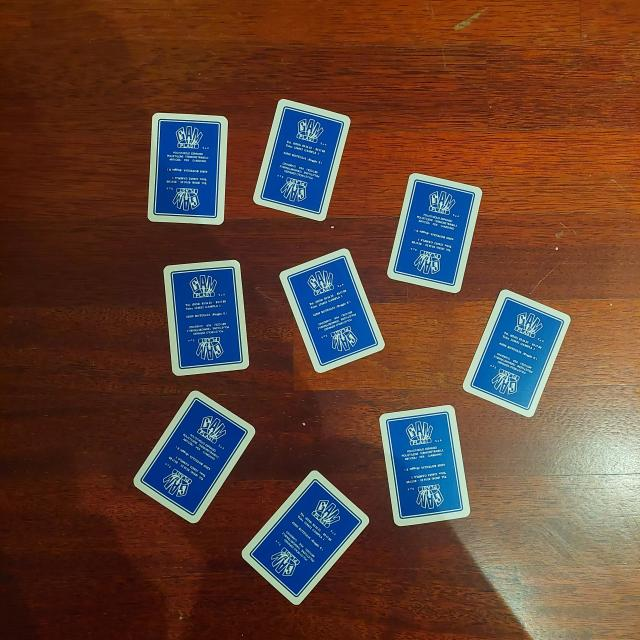card: (239, 467, 371, 609), (132, 388, 258, 528), (279, 248, 388, 380), (464, 289, 569, 420), (253, 98, 351, 227), (379, 402, 477, 528), (158, 254, 253, 381), (388, 172, 481, 294), (146, 112, 228, 227)
